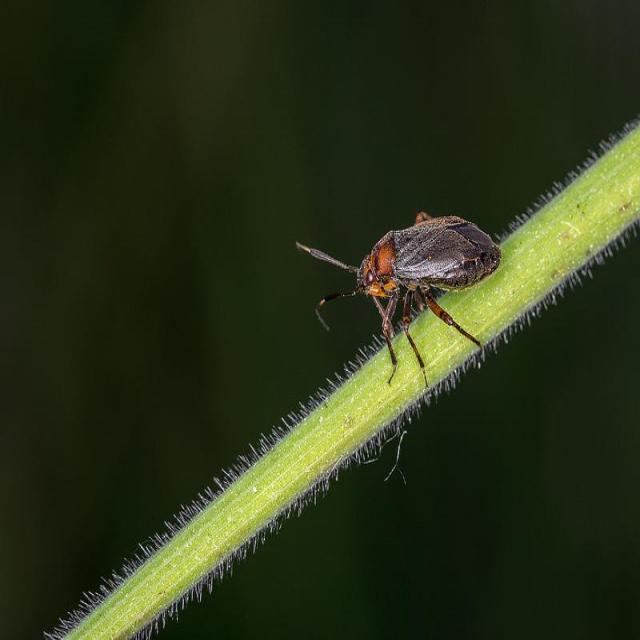Miridae-Adult-: (292, 210, 503, 388)
